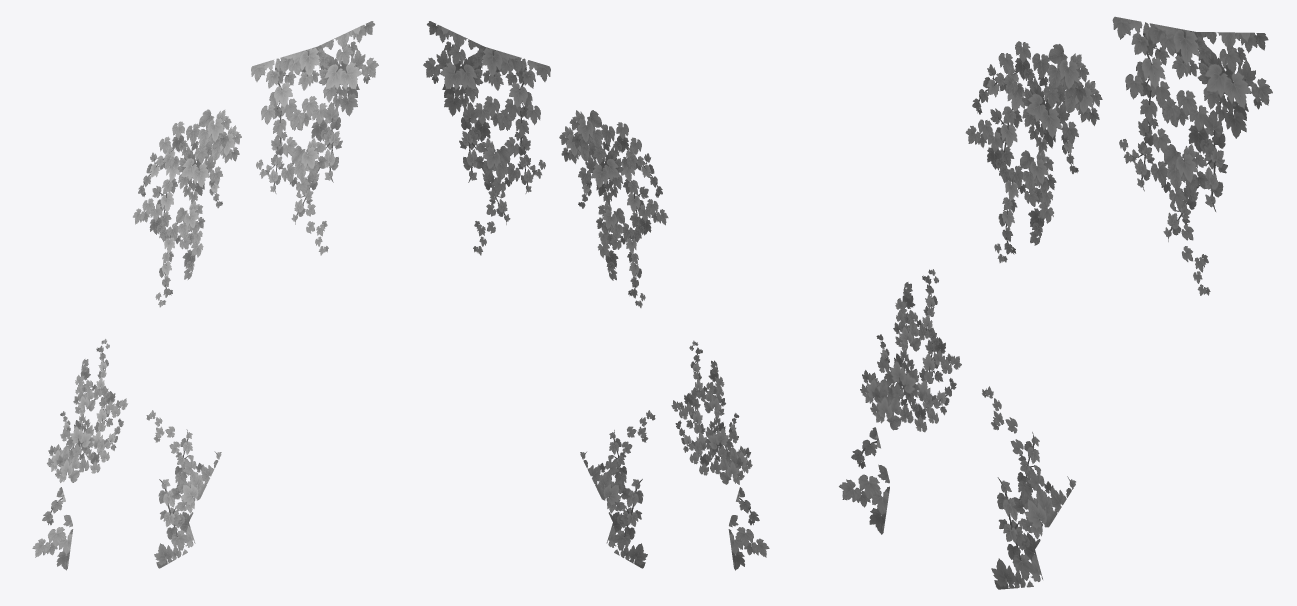
File: Forest_building_056_12.fbx
The picture shows the model from 3 angles, left to right: view 1: azimuth 30°, elevation 25°; view 2: azimuth 150°, elevation 25°; view 3: azimuth 330°, elevation 25°; orthographic projection. The views are drawn at different scales.
Parts seen in each view (by area): view 1: Forest_building_056_012; view 2: Forest_building_056_012; view 3: Forest_building_056_012.
Boxes of the visible parts, <box> form: Forest_building_056_012: <box>32,21,378,570</box>; Forest_building_056_012: <box>423,21,769,570</box>; Forest_building_056_012: <box>839,16,1272,589</box>.
Size of the model in its own units: 1396 by 1816 by 8.22.
Materials: 1 (1 with a texture image).
